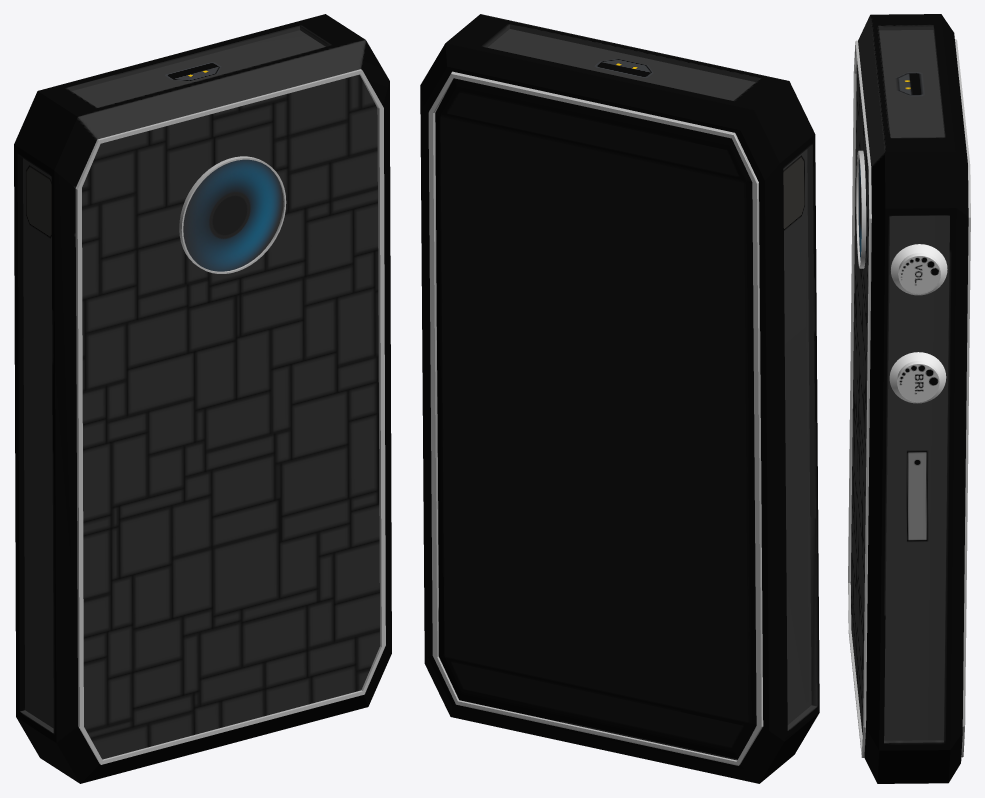
Rendered from newsovphone.glb.
The picture shows the model from 3 angles, left to right: view 1: azimuth 30°, elevation 25°; view 2: azimuth 150°, elevation 25°; view 3: azimuth 270°, elevation 25°; orthographic projection. The views are drawn at different scales.
Parts seen in each view (by area): view 1: Cube.042, Cylinder.035; view 2: Cube.042; view 3: Cube.042, Cylinder.036, Cylinder.034, Cylinder.035.
Boxes of the visible parts, box(x1,y1,x2,y2) form: Cube.042: box(14, 14, 391, 783); Cylinder.035: box(179, 156, 286, 273); Cube.042: box(420, 14, 819, 783); Cube.042: box(848, 14, 970, 783); Cylinder.036: box(891, 244, 947, 295); Cylinder.034: box(889, 352, 946, 403); Cylinder.035: box(856, 150, 866, 268).
Bounding box in the file's own units: 12.44 × 22.3 × 3.93.
1 material, 1 textured.
